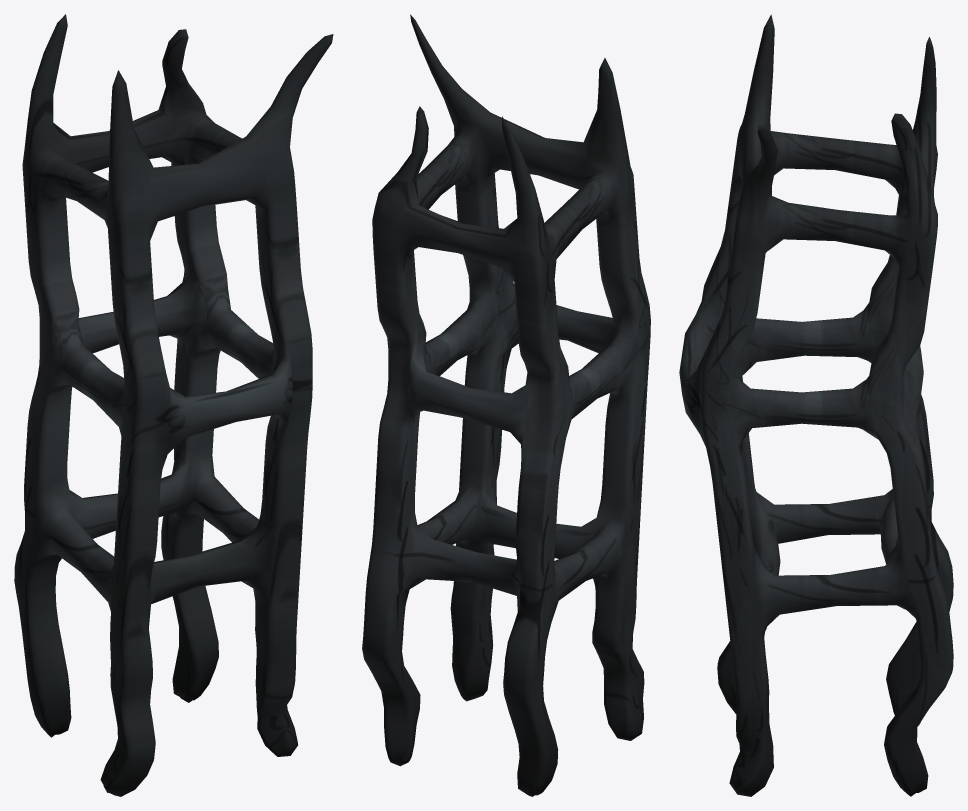
Rendered from MetalFrame.FBX.
3 views of the same model, side by side, from view 1: azimuth 30°, elevation 25°; view 2: azimuth 150°, elevation 25°; view 3: azimuth 270°, elevation 25° (orthographic). The views are drawn at different scales.
Visible parts, largest first — view 1: PRO_MetalFrame; view 2: PRO_MetalFrame; view 3: PRO_MetalFrame.
Boxes of the visible parts, x1,y1,x2,y2 form: PRO_MetalFrame: (14, 14, 333, 796); PRO_MetalFrame: (362, 14, 650, 796); PRO_MetalFrame: (679, 14, 953, 796).
Bounding box in the file's own units: 31.35 × 92.04 × 32.15.
Materials: 1 (1 with a texture image).
